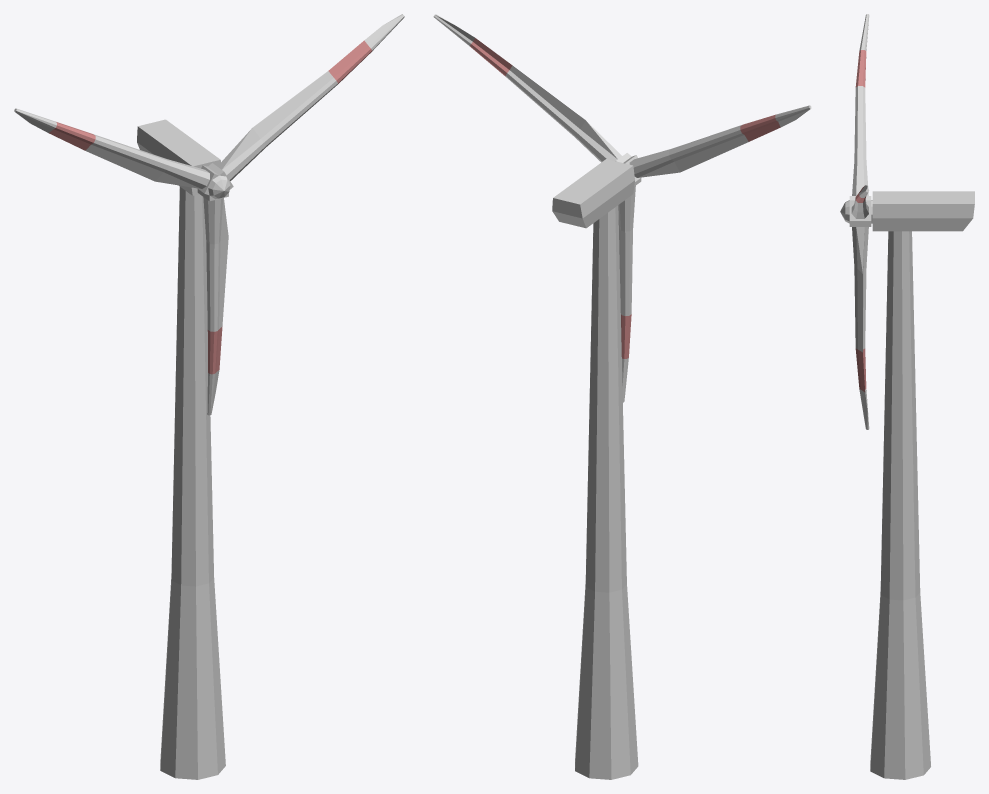
File: WindTurbine2.fbx
The picture shows the model from 3 angles, left to right: view 1: azimuth 30°, elevation 25°; view 2: azimuth 150°, elevation 25°; view 3: azimuth 270°, elevation 25°; orthographic projection. The views are drawn at different scales.
Parts seen in each view (by area): view 1: Cylinder.001, Cylinder.000, Cylinder.002; view 2: Cylinder.001, Cylinder.000, Cylinder.002; view 3: Cylinder.001, Cylinder.000, Cylinder.002.
Boxes of the visible parts, left/top/right/bottom form: Cylinder.001: left=160, top=187, right=225, bottom=779; Cylinder.000: left=14, top=14, right=404, bottom=415; Cylinder.002: left=137, top=119, right=220, bottom=195; Cylinder.001: left=575, top=205, right=638, bottom=779; Cylinder.000: left=433, top=14, right=811, bottom=402; Cylinder.002: left=552, top=159, right=634, bottom=228; Cylinder.001: left=870, top=231, right=930, bottom=779; Cylinder.000: left=840, top=14, right=872, bottom=429; Cylinder.002: left=872, top=191, right=974, bottom=231.
Size of the model in its own units: 52.17 by 91.73 by 16.84.
